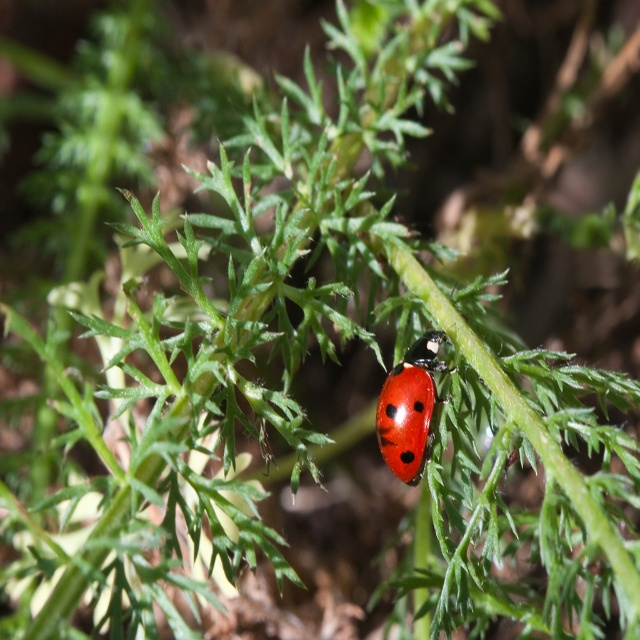Ladybug: (378, 331, 463, 486)
